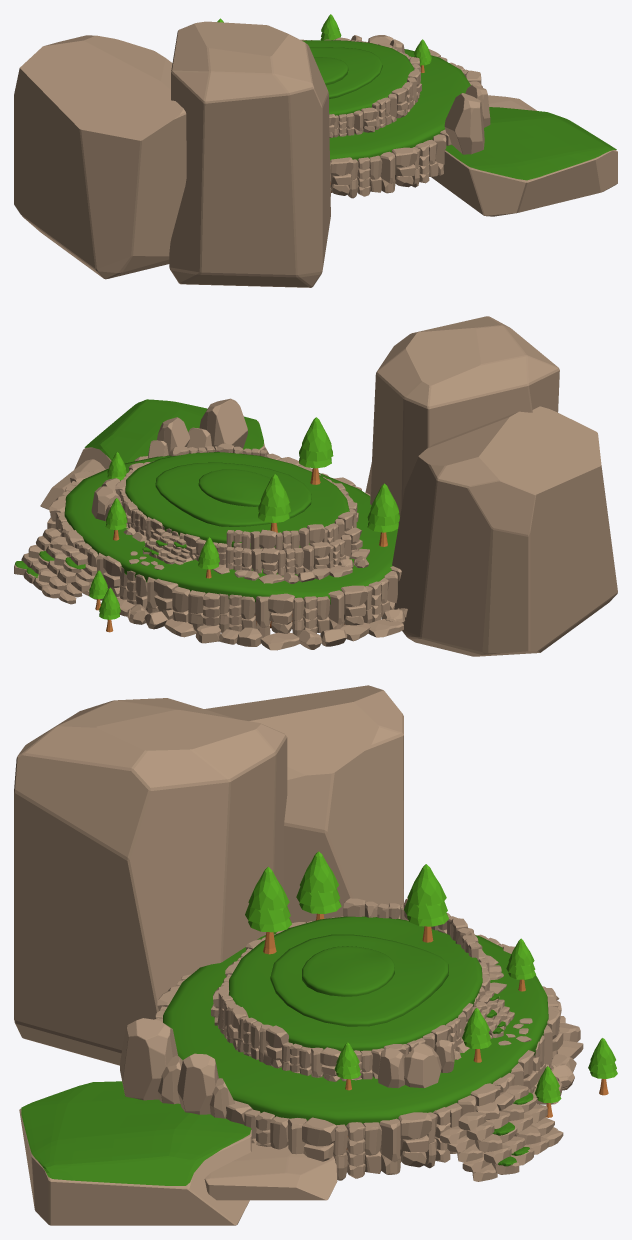
File: BackgroundLand01.fbx
3 renders of one model, top to bottom at view 1: azimuth 30°, elevation 25°; view 2: azimuth 150°, elevation 25°; view 3: azimuth 270°, elevation 25°, orthographic. The views are drawn at different scales.
Visible parts, largest first — view 1: Rock, Rock.001, island, Land, Rock.002; view 2: island, Rock.001, Rock, Land, tree.006, tree.007, tree.005, Rock.002, tree.003, tree.001, tree.002; view 3: island, Rock, Land, Rock.001, Rock.002, tree.006, tree.005, tree.007, tree.003, tree.001, tree.002, tree.004 (+1 smaller).
Part boxes in pixels (x1=…): Rock: x1=169, y1=21, x2=330, y2=287; Rock.001: x1=14, y1=35, x2=186, y2=279; island: x1=300, y1=35, x2=490, y2=198; Land: x1=431, y1=107, x2=617, y2=216; Rock.002: x1=488, y1=95, x2=536, y2=110; island: x1=14, y1=398, x2=407, y2=650; Rock.001: x1=392, y1=406, x2=617, y2=656; Rock: x1=365, y1=316, x2=559, y2=522; Land: x1=74, y1=399, x2=268, y2=469; tree.006: x1=299, y1=417, x2=333, y2=484; tree.007: x1=367, y1=483, x2=399, y2=546; tree.005: x1=258, y1=474, x2=290, y2=532; Rock.002: x1=40, y1=459, x2=105, y2=509; tree.003: x1=99, y1=587, x2=120, y2=632; tree.001: x1=105, y1=498, x2=127, y2=540; tree.002: x1=198, y1=537, x2=219, y2=578; island: x1=120, y1=898, x2=583, y2=1181; Rock: x1=14, y1=698, x2=287, y2=1065; Land: x1=19, y1=1081, x2=251, y2=1225; Rock.001: x1=204, y1=685, x2=403, y2=922; Rock.002: x1=204, y1=1143, x2=337, y2=1200; tree.006: x1=245, y1=866, x2=291, y2=954; tree.005: x1=404, y1=864, x2=448, y2=942; tree.007: x1=296, y1=851, x2=341, y2=920; tree.003: x1=588, y1=1038, x2=617, y2=1095; tree.001: x1=462, y1=1008, x2=491, y2=1062; tree.002: x1=506, y1=938, x2=535, y2=991; tree.004: x1=534, y1=1066, x2=561, y2=1117.
Size of the model in its own units: 11937 by 5096 by 9220.
